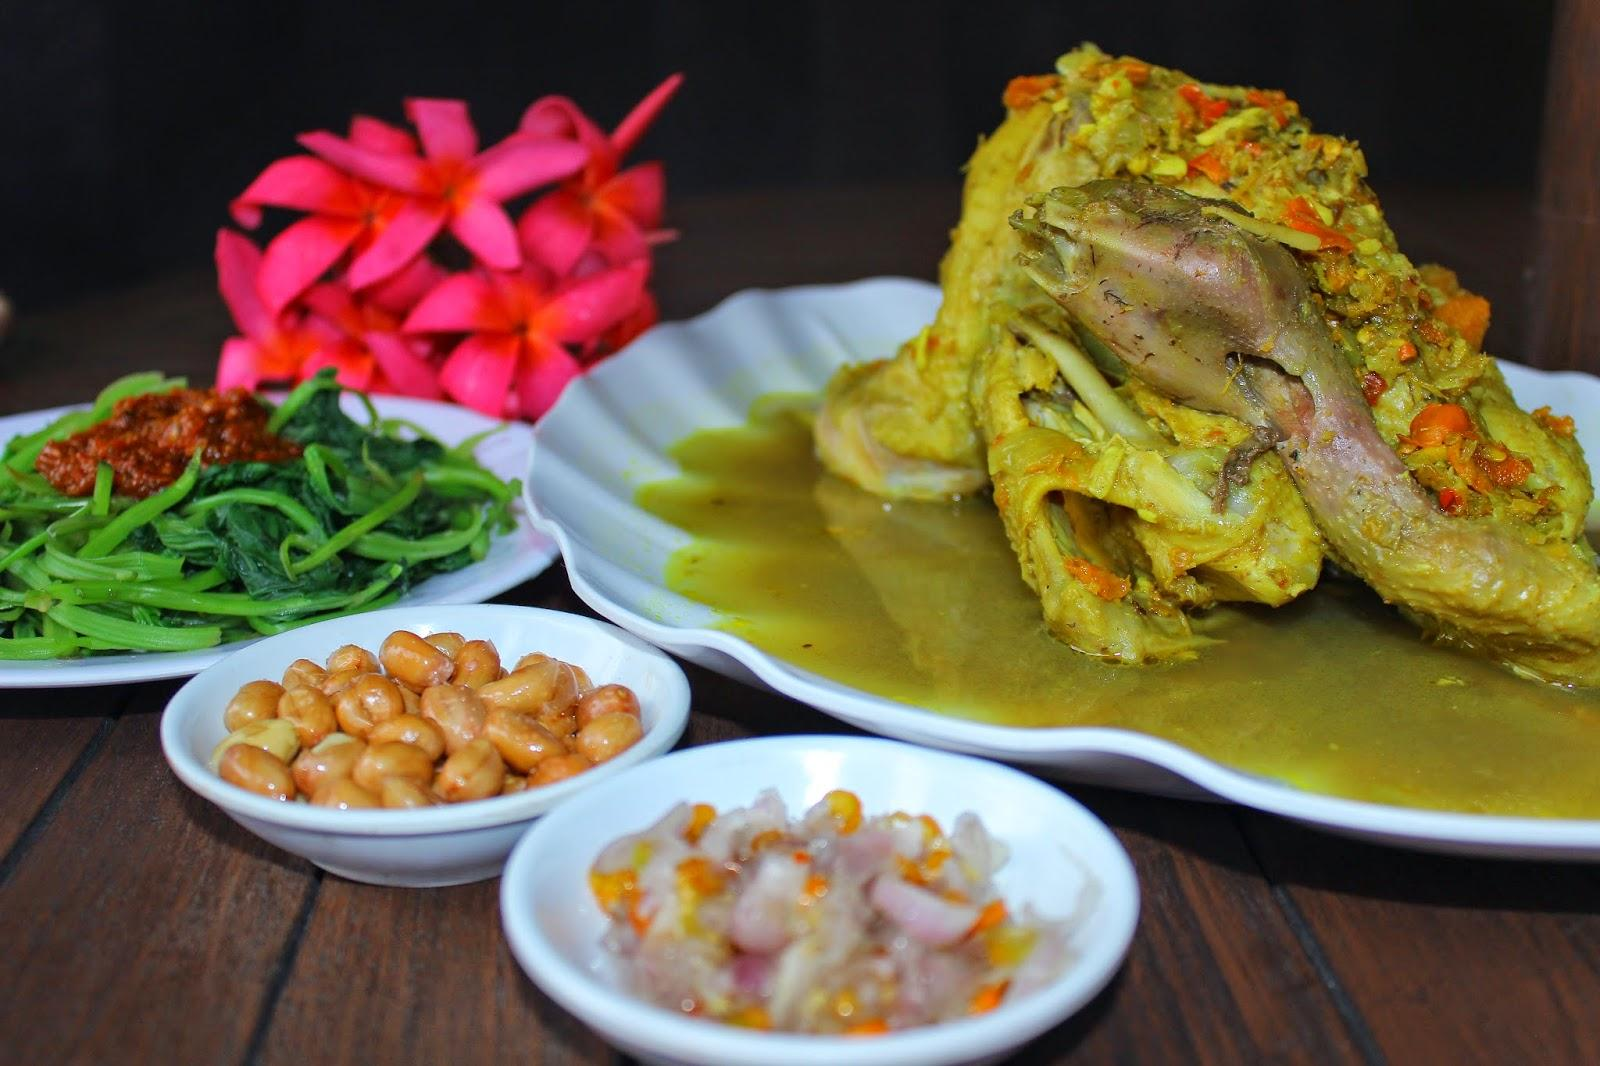ayam_betutu: (812, 40, 1600, 679)
